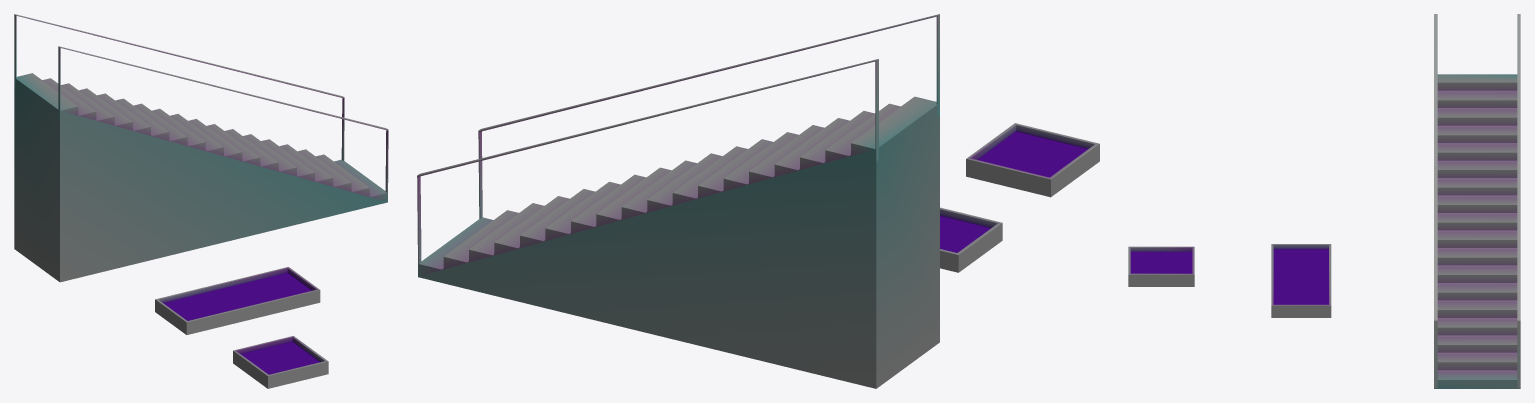
The picture shows the model from 3 angles, left to right: view 1: azimuth 30°, elevation 25°; view 2: azimuth 150°, elevation 25°; view 3: azimuth 270°, elevation 25°; orthographic projection. The views are drawn at different scales.
Parts seen in each view (by area): view 1: closed_steps, tray, tray.001, rail, rail.001; view 2: closed_steps, tray.001, tray, rail.001, rail; view 3: closed_steps, tray, tray.001, rail, rail.001.
Boxes of the visible parts, x1=… form: closed_steps: x1=14, y1=73, x2=387, y2=282; tray: x1=155, y1=267, x2=320, y2=334; tray.001: x1=233, y1=336, x2=328, y2=388; rail: x1=58, y1=46, x2=388, y2=192; rail.001: x1=14, y1=14, x2=344, y2=160; closed_steps: x1=418, y1=96, x2=939, y2=388; tray.001: x1=966, y1=123, x2=1099, y2=197; tray: x1=940, y1=207, x2=1002, y2=272; rail.001: x1=417, y1=59, x2=878, y2=263; rail: x1=478, y1=14, x2=939, y2=218; closed_steps: x1=1434, y1=74, x2=1520, y2=388; tray: x1=1271, y1=244, x2=1331, y2=317; tray.001: x1=1128, y1=246, x2=1194, y2=286; rail: x1=1434, y1=14, x2=1437, y2=388; rail.001: x1=1517, y1=14, x2=1520, y2=388.
Size of the model in its own units: 1.38 by 0.9401 by 1.5.
